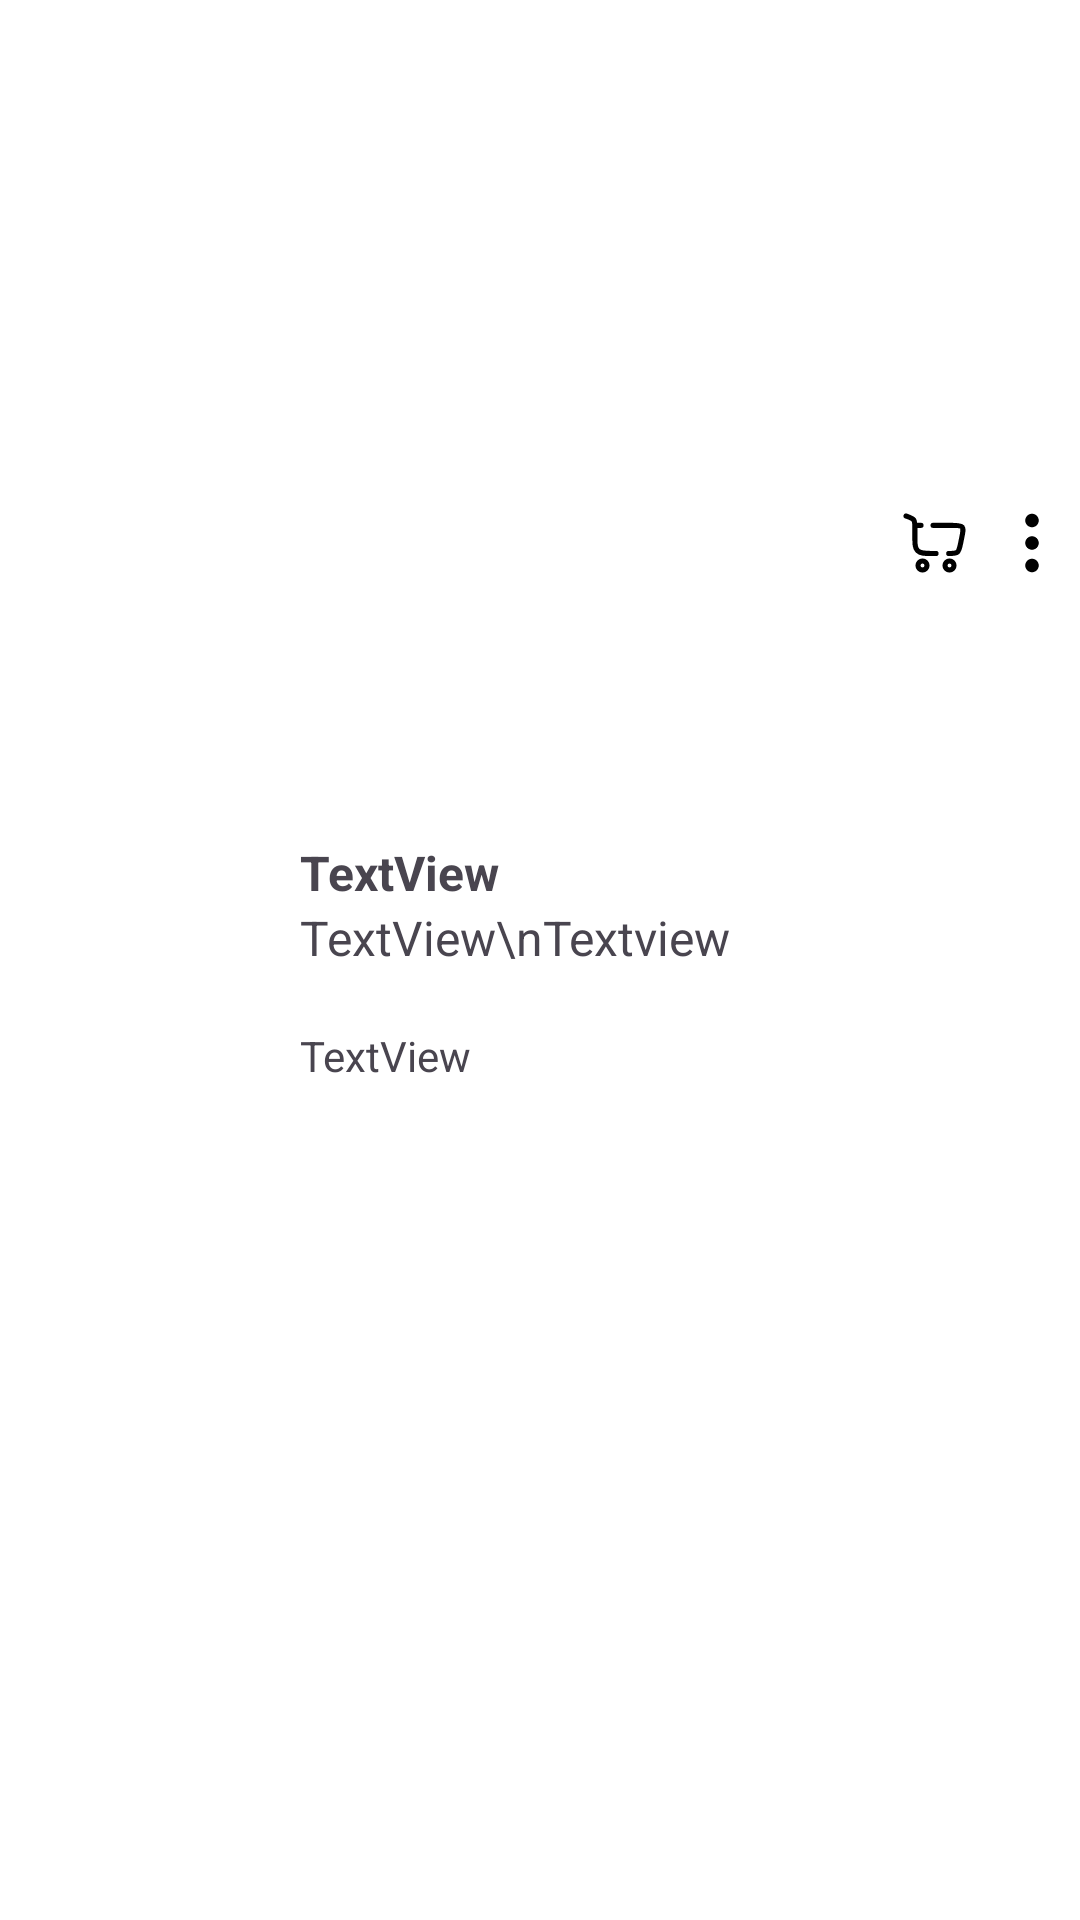

Screen size 1080 × 1920. Icon name, then its box in pixels as (x1, y1, x2, y2):
cart: (903, 513, 966, 573)
menu: (1025, 513, 1039, 573)
